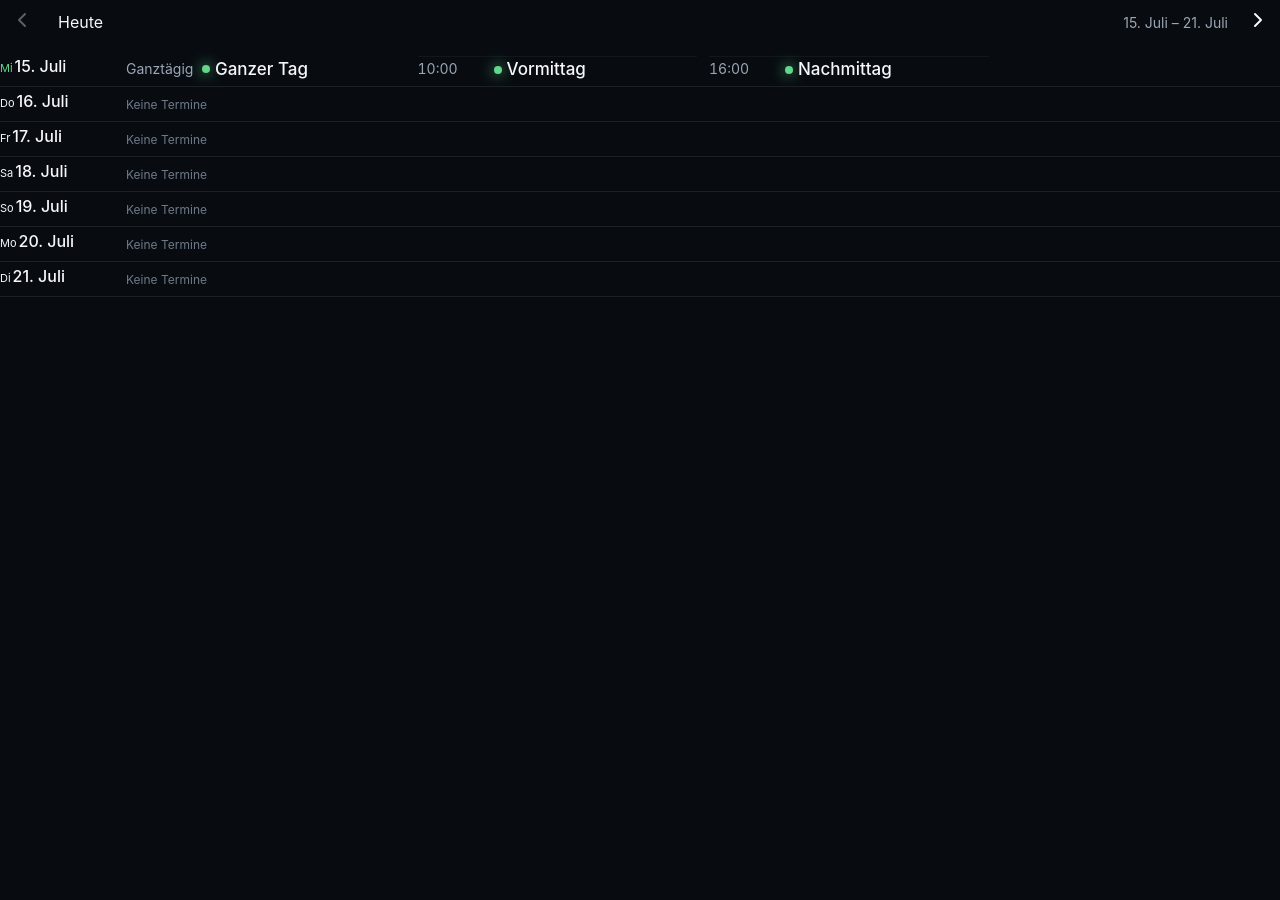
Test: sorts all-day first and timed events chronologically without dropping details
Click the button with aria-label "Termine für 2026-07-15 anzeigen".
click(57, 69)  # box [0, 55, 114, 83]
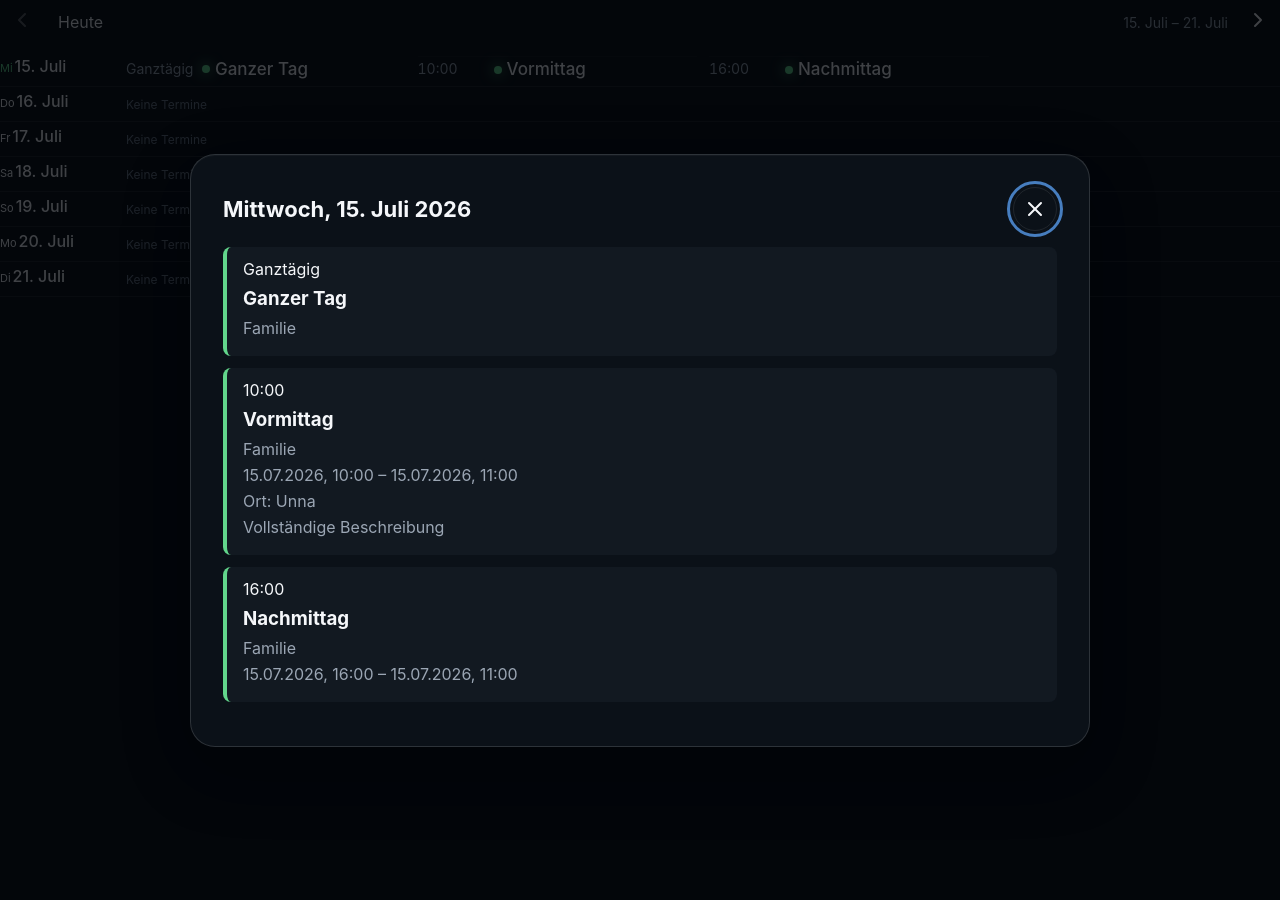
expect the headings read "Ganzer Tag", "Vormittag", "Nachmittag", in this order: met, box [243, 286, 347, 310]; [243, 408, 334, 430]; [243, 606, 349, 630]
expect the text "Vollständige Beschreibung" is shown: met, box [243, 516, 444, 536]
expect the text "Ort: Unna" is shown: met, box [243, 490, 316, 510]
